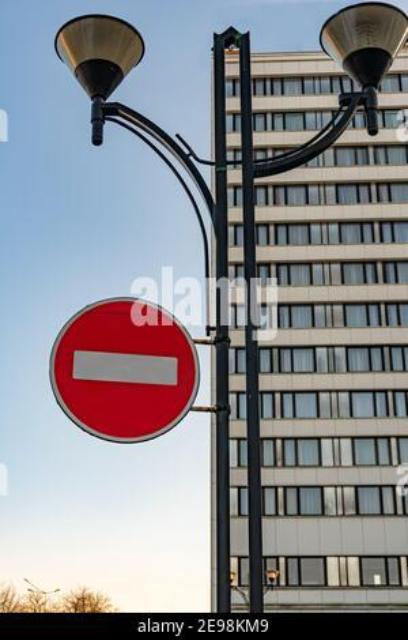B2: (48, 294, 200, 444)
